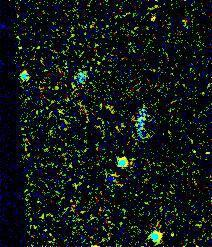star: (144, 0, 174, 25)
